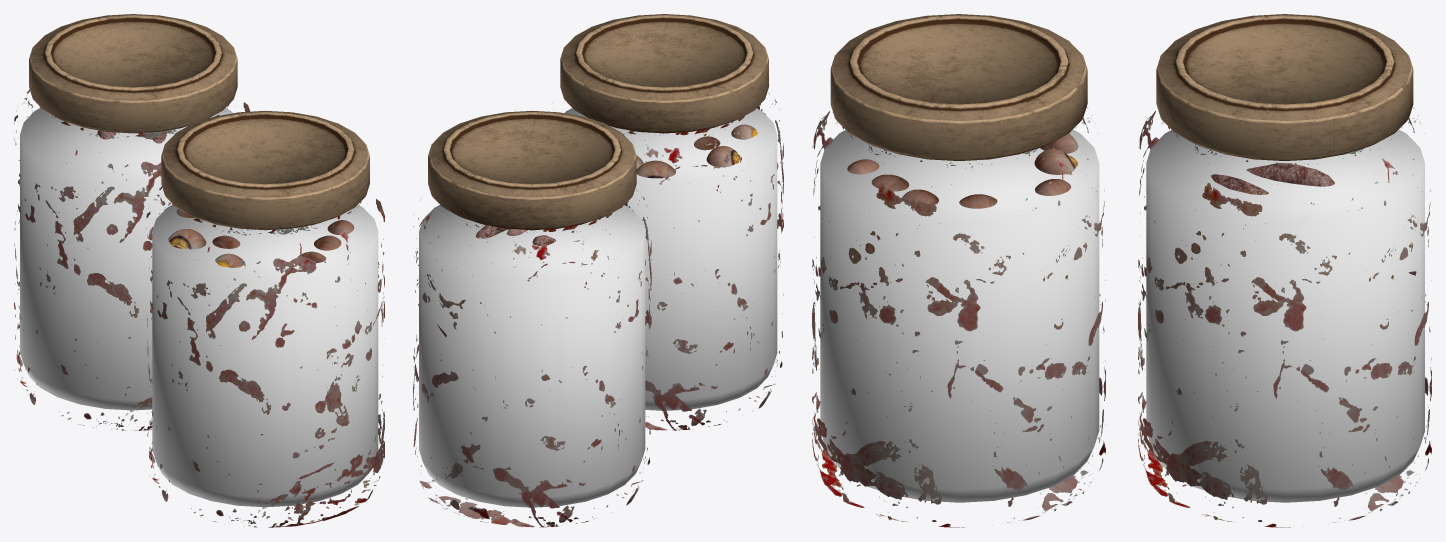
Rendered from banka2.fbx.
3 renders of one model, left to right at view 1: azimuth 30°, elevation 25°; view 2: azimuth 150°, elevation 25°; view 3: azimuth 270°, elevation 25°, orthographic. The views are drawn at different scales.
Visible parts, largest first — view 1: voda, voda.001, kryshka, kryshka.001, banka, banka.001, Sphere.001; view 2: voda.001, voda, kryshka.001, kryshka, banka.001, banka, Sphere.001, kishki.001; view 3: voda.001, voda, kryshka, kryshka.001, banka, banka.001, Sphere.001, kishki.001.
Boxes of the visible parts, x1,y1,x2,y2 form: voda: [152, 205, 378, 507]; voda.001: [20, 108, 232, 410]; kryshka: [161, 110, 369, 230]; kryshka.001: [29, 14, 237, 133]; banka: [146, 186, 384, 527]; banka.001: [14, 89, 250, 430]; Sphere.001: [168, 208, 354, 267]; voda.001: [419, 205, 645, 507]; voda: [564, 108, 777, 410]; kryshka.001: [428, 110, 636, 230]; kryshka: [560, 14, 768, 133]; banka.001: [413, 189, 651, 527]; banka: [552, 92, 783, 430]; Sphere.001: [636, 124, 757, 178]; kishki.001: [437, 225, 555, 360]; voda.001: [1146, 129, 1424, 502]; voda: [820, 129, 1099, 502]; kryshka: [830, 14, 1087, 160]; kryshka.001: [1156, 14, 1413, 160]; banka: [812, 107, 1105, 527]; banka.001: [1138, 107, 1431, 527]; Sphere.001: [847, 133, 1078, 208]; kishki.001: [1211, 163, 1416, 311].
Size of the model in its own units: 107 by 167 by 225.
